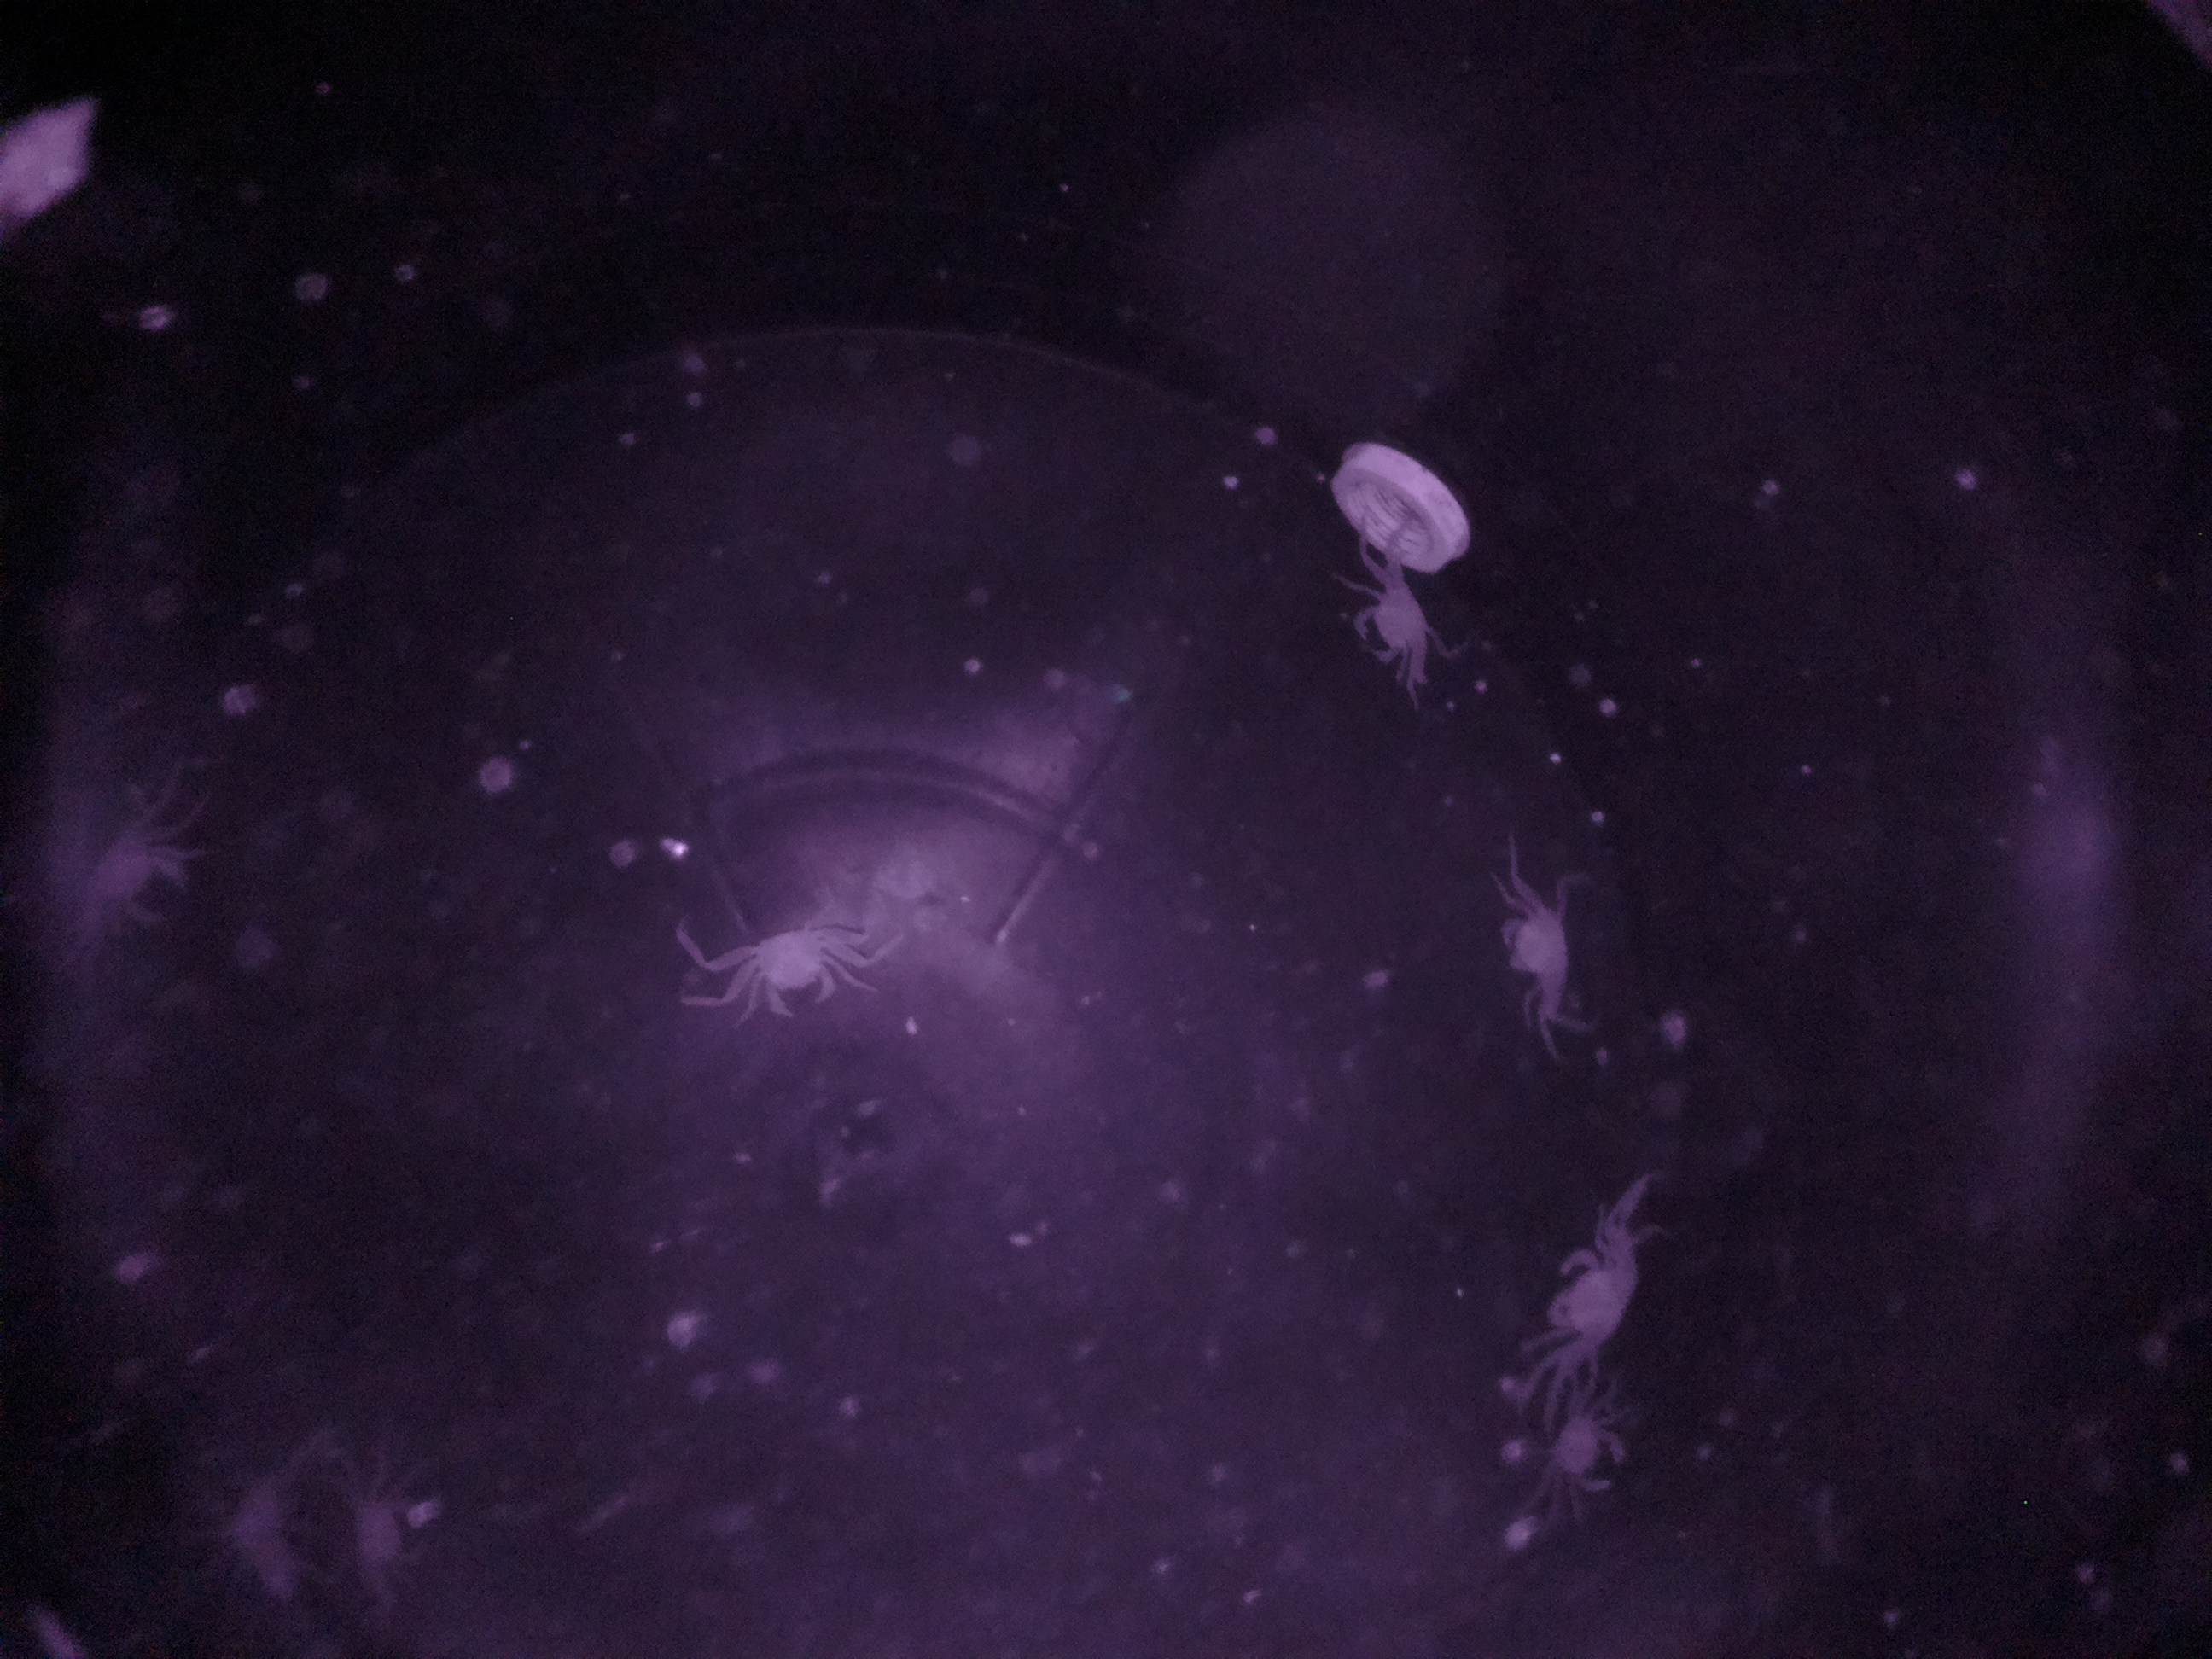Crab: (1522, 1223, 1663, 1385), (728, 904, 853, 1035), (1345, 563, 1446, 685)
